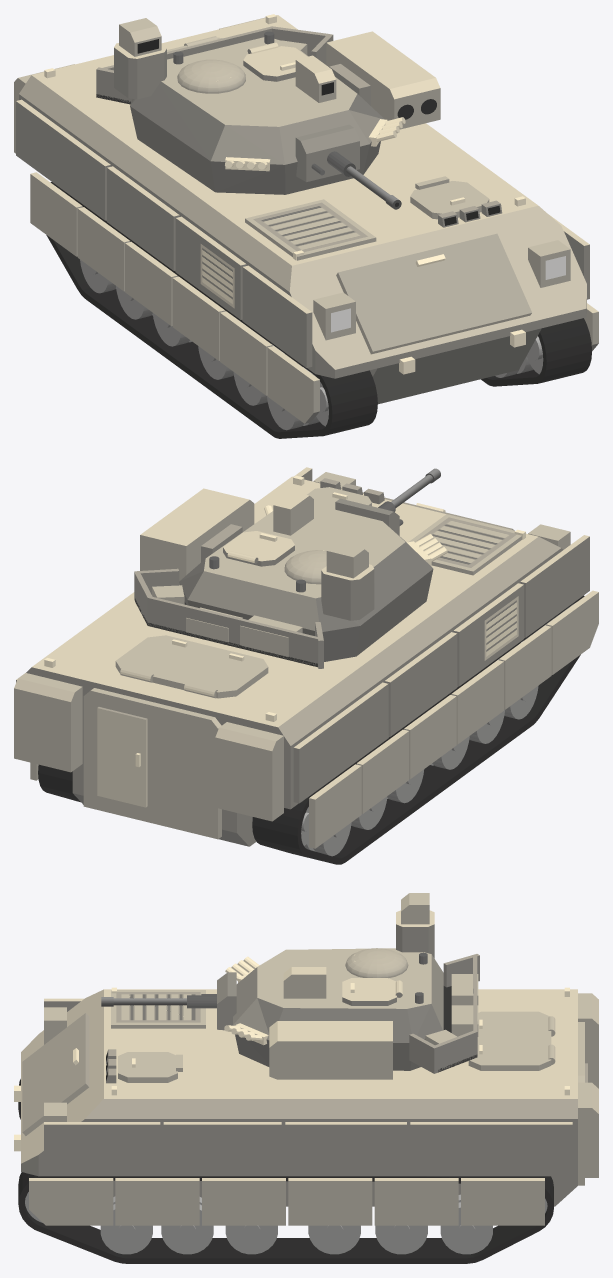
File: vehicle.glb
3 views of the same model, one above another, from view 1: azimuth 30°, elevation 25°; view 2: azimuth 150°, elevation 25°; view 3: azimuth 270°, elevation 25° (orthographic). The views are drawn at different scales.
Visible parts, largest first — view 1: hull hull, turret turret, side_armor_r side_armor_r, trim_vane trim_vane, track_r track_r, tow_launcher tow_launcher, track_l track_l, engine_grille engine_grille, skirt_r_01 skirt_r_01, skirt_r_05 skirt_r_05, skirt_r_02 skirt_r_02, skirt_r_03 skirt_r_03 (+25 smaller); view 2: hull hull, turret turret, side_armor_r side_armor_r, rear_ramp rear_ramp, track_r track_r, cargo_hatch cargo_hatch, rear_stowage_l rear_stowage_l, rear_stowage_r rear_stowage_r, tow_launcher tow_launcher, bustle_rack bustle_rack, ramp_door ramp_door, skirt_r_06 skirt_r_06 (+29 smaller); view 3: hull hull, side_armor_l side_armor_l, turret turret, track_l track_l, tow_launcher tow_launcher, trim_vane trim_vane, cargo_hatch cargo_hatch, skirt_l_02 skirt_l_02, skirt_l_04 skirt_l_04, skirt_l_05 skirt_l_05, skirt_l_03 skirt_l_03, skirt_l_06 skirt_l_06 (+24 smaller).
Boxes of the visible parts, x1=… form: hull hull: x1=19, y1=15, x2=586, y2=404; turret turret: x1=130, y1=37, x2=384, y2=194; side_armor_r side_armor_r: x1=16, y1=99, x2=312, y2=367; trim_vane trim_vane: x1=336, y1=233, x2=531, y2=354; track_r track_r: x1=46, y1=182, x2=377, y2=438; tow_launcher tow_launcher: x1=326, y1=31, x2=440, y2=129; track_l track_l: x1=481, y1=318, x2=591, y2=386; engine_grille engine_grille: x1=253, y1=202, x2=367, y2=251; skirt_r_01 skirt_r_01: x1=267, y1=346, x2=319, y2=423; skirt_r_05 skirt_r_05: x1=77, y1=207, x2=130, y2=291; skirt_r_02 skirt_r_02: x1=220, y1=311, x2=272, y2=395; skirt_r_03 skirt_r_03: x1=172, y1=276, x2=225, y2=360; hull hull: x1=26, y1=476, x2=563, y2=846; turret turret: x1=179, y1=504, x2=433, y2=661; side_armor_r side_armor_r: x1=293, y1=535, x2=589, y2=803; rear_ramp rear_ramp: x1=83, y1=688, x2=221, y2=839; track_r track_r: x1=252, y1=595, x2=584, y2=864; cargo_hatch cargo_hatch: x1=115, y1=635, x2=268, y2=698; rear_stowage_l rear_stowage_l: x1=14, y1=673, x2=82, y2=772; rear_stowage_r rear_stowage_r: x1=215, y1=722, x2=283, y2=821; tow_launcher tow_launcher: x1=140, y1=488, x2=254, y2=585; bustle_rack bustle_rack: x1=134, y1=568, x2=323, y2=668; ramp_door ramp_door: x1=97, y1=707, x2=147, y2=807; skirt_r_06 skirt_r_06: x1=309, y1=764, x2=361, y2=848; hull hull: x1=21, y1=989, x2=577, y2=1206; side_armor_l side_armor_l: x1=44, y1=1122, x2=572, y2=1173; turret turret: x1=233, y1=948, x2=443, y2=1070; track_l track_l: x1=18, y1=1172, x2=553, y2=1263; tow_launcher tow_launcher: x1=269, y1=1021, x2=392, y2=1079; trim_vane trim_vane: x1=22, y1=1013, x2=89, y2=1135; cargo_hatch cargo_hatch: x1=468, y1=1011, x2=555, y2=1070; skirt_l_02 skirt_l_02: x1=115, y1=1178, x2=199, y2=1225; skirt_l_04 skirt_l_04: x1=288, y1=1178, x2=372, y2=1225; skirt_l_05 skirt_l_05: x1=374, y1=1178, x2=458, y2=1225; skirt_l_03 skirt_l_03: x1=202, y1=1178, x2=285, y2=1225; skirt_l_06 skirt_l_06: x1=461, y1=1178, x2=544, y2=1225.
Bounding box in the file's own units: 3.4 × 3.27 × 6.64.
Materials: 40 (2 with a texture image).
